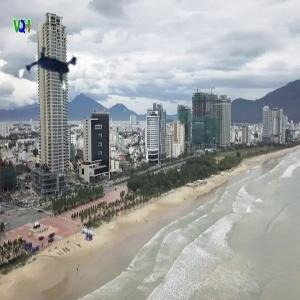drone: (15, 31, 93, 109)
